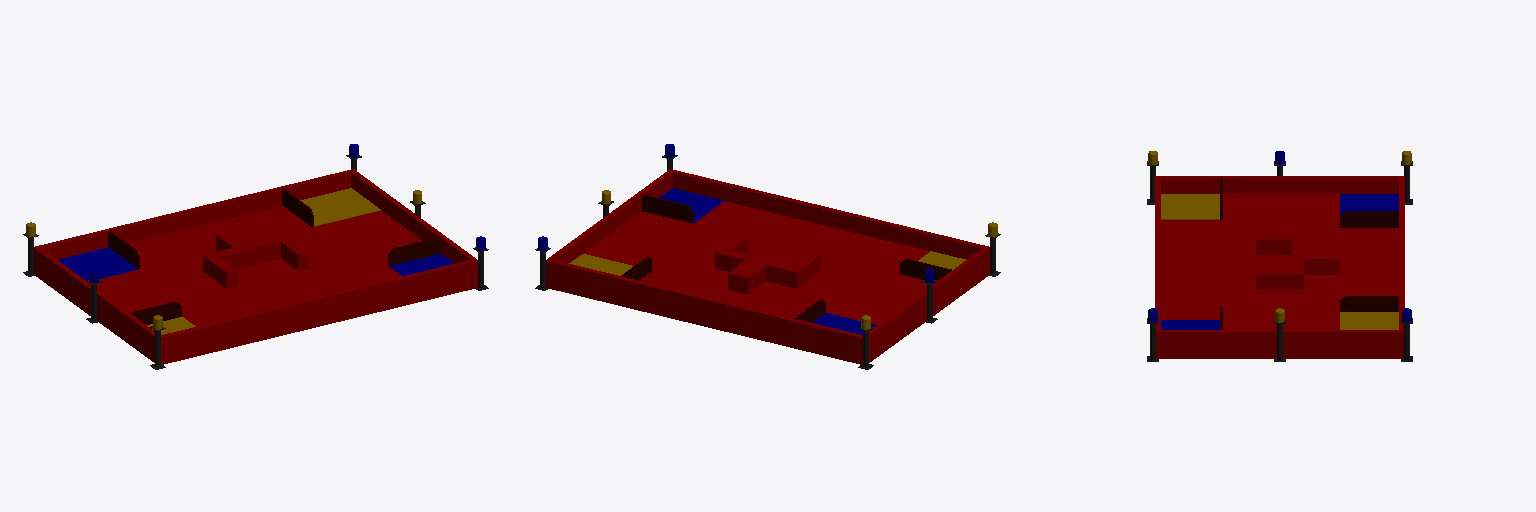
The model's file is map_without_chess.obj.
3 renders of one model, left to right at view 1: azimuth 30°, elevation 25°; view 2: azimuth 150°, elevation 25°; view 3: azimuth 270°, elevation 25°, orthographic.
Parts seen in each view (by area): view 1: ShapeIndexedFaceSet.024_ShapeIndexedFaceSet, ShapeIndexedFaceSet.020_ShapeIndexedFaceSet.021, ShapeIndexedFaceSet.016_ShapeIndexedFaceSet.017, ShapeIndexedFaceSet.015_ShapeIndexedFaceSet.016, ShapeIndexedFaceSet.014_ShapeIndexedFaceSet.015, ShapeIndexedFaceSet.017_ShapeIndexedFaceSet.018, ShapeIndexedFaceSet.012_ShapeIndexedFaceSet.013, ShapeIndexedFaceSet.023_ShapeIndexedFaceSet.024, ShapeIndexedFaceSet.018_ShapeIndexedFaceSet.019; view 2: ShapeIndexedFaceSet.024_ShapeIndexedFaceSet, ShapeIndexedFaceSet.020_ShapeIndexedFaceSet.021, ShapeIndexedFaceSet.014_ShapeIndexedFaceSet.015, ShapeIndexedFaceSet.017_ShapeIndexedFaceSet.018, ShapeIndexedFaceSet.016_ShapeIndexedFaceSet.017, ShapeIndexedFaceSet.012_ShapeIndexedFaceSet.013, ShapeIndexedFaceSet.015_ShapeIndexedFaceSet.016; view 3: ShapeIndexedFaceSet.024_ShapeIndexedFaceSet, ShapeIndexedFaceSet.020_ShapeIndexedFaceSet.021, ShapeIndexedFaceSet.022_ShapeIndexedFaceSet.023, ShapeIndexedFaceSet.016_ShapeIndexedFaceSet.017, ShapeIndexedFaceSet.015_ShapeIndexedFaceSet.016, ShapeIndexedFaceSet.018_ShapeIndexedFaceSet.019, ShapeIndexedFaceSet.023_ShapeIndexedFaceSet.024, ShapeIndexedFaceSet.017_ShapeIndexedFaceSet.018.
Boxes of the visible parts, <box> form: ShapeIndexedFaceSet.024_ShapeIndexedFaceSet: <box>34,169,477,364</box>; ShapeIndexedFaceSet.020_ShapeIndexedFaceSet.021: <box>203,229,308,288</box>; ShapeIndexedFaceSet.016_ShapeIndexedFaceSet.017: <box>300,188,380,226</box>; ShapeIndexedFaceSet.015_ShapeIndexedFaceSet.016: <box>58,247,137,279</box>; ShapeIndexedFaceSet.014_ShapeIndexedFaceSet.015: <box>388,237,440,265</box>; ShapeIndexedFaceSet.017_ShapeIndexedFaceSet.018: <box>389,254,454,275</box>; ShapeIndexedFaceSet.012_ShapeIndexedFaceSet.013: <box>130,301,181,324</box>; ShapeIndexedFaceSet.023_ShapeIndexedFaceSet.024: <box>282,189,313,226</box>; ShapeIndexedFaceSet.018_ShapeIndexedFaceSet.019: <box>108,231,139,269</box>; ShapeIndexedFaceSet.024_ShapeIndexedFaceSet: <box>546,169,989,364</box>; ShapeIndexedFaceSet.020_ShapeIndexedFaceSet.021: <box>715,235,820,293</box>; ShapeIndexedFaceSet.014_ShapeIndexedFaceSet.015: <box>642,194,693,223</box>; ShapeIndexedFaceSet.017_ShapeIndexedFaceSet.018: <box>660,188,723,222</box>; ShapeIndexedFaceSet.016_ShapeIndexedFaceSet.017: <box>569,254,632,275</box>; ShapeIndexedFaceSet.012_ShapeIndexedFaceSet.013: <box>900,259,951,282</box>; ShapeIndexedFaceSet.015_ShapeIndexedFaceSet.016: <box>813,313,876,334</box>; ShapeIndexedFaceSet.024_ShapeIndexedFaceSet: <box>1155,176,1404,358</box>; ShapeIndexedFaceSet.020_ShapeIndexedFaceSet.021: <box>1256,234,1339,289</box>; ShapeIndexedFaceSet.022_ShapeIndexedFaceSet.023: <box>1161,194,1219,219</box>; ShapeIndexedFaceSet.016_ShapeIndexedFaceSet.017: <box>1340,312,1398,329</box>; ShapeIndexedFaceSet.015_ShapeIndexedFaceSet.016: <box>1340,194,1398,215</box>; ShapeIndexedFaceSet.018_ShapeIndexedFaceSet.019: <box>1340,211,1398,227</box>; ShapeIndexedFaceSet.023_ShapeIndexedFaceSet.024: <box>1340,296,1398,311</box>; ShapeIndexedFaceSet.017_ShapeIndexedFaceSet.018: <box>1161,320,1219,329</box>.
Bounding box in the file's own units: 3.22 × 0.4604 × 2.22.